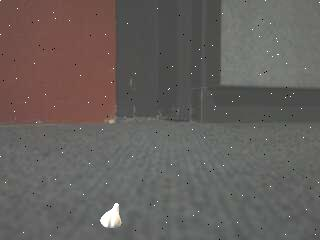Garlic: (98, 201, 124, 230)
